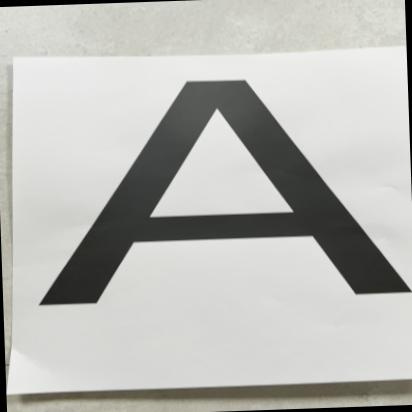seat: (29, 56, 412, 351)
